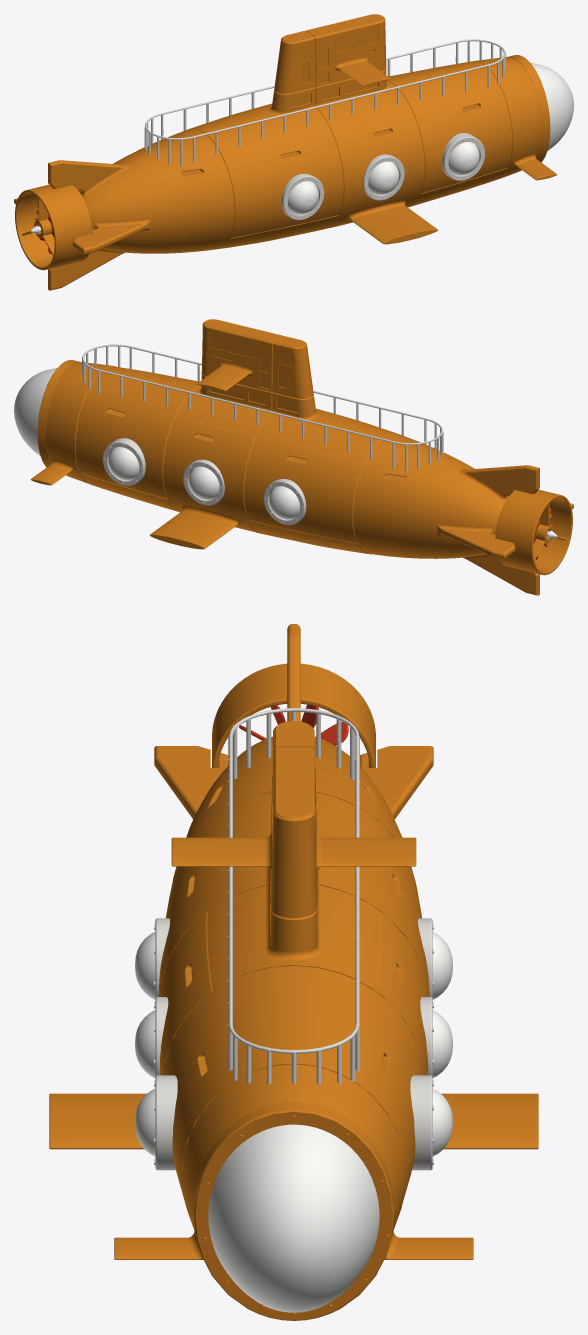
The model's file is sub_color v1.fbx.
3 views of the same model, one above another, from view 1: azimuth 30°, elevation 25°; view 2: azimuth 150°, elevation 25°; view 3: azimuth 270°, elevation 25° (orthographic). The views are drawn at different scales.
Visible parts, largest first — view 1: Body20, Body7, Body17, Body8, Body3, Body1; view 2: Body20, Body7, Body17, Body8, Body3, Body1; view 3: Body20, Body1, Body17, Body3, Body7, Body8, Body22.
Boxes of the visible parts, <box> form: Body20: <box>14,14,557,290</box>; Body7: <box>15,184,92,270</box>; Body17: <box>144,39,505,172</box>; Body8: <box>288,142,479,214</box>; Body3: <box>281,133,485,220</box>; Body1: <box>531,63,573,150</box>; Body20: <box>30,319,573,595</box>; Body7: <box>495,489,572,575</box>; Body17: <box>82,344,443,477</box>; Body8: <box>108,447,299,519</box>; Body3: <box>102,438,306,525</box>; Body1: <box>14,368,56,455</box>; Body20: <box>49,624,538,1320</box>; Body1: <box>208,1124,379,1312</box>; Body17: <box>228,708,359,1084</box>; Body3: <box>154,918,433,1170</box>; Body7: <box>212,663,375,767</box>; Body8: <box>135,932,452,1156</box>; Body22: <box>239,704,355,760</box>.
Bounding box in the file's own units: 183 × 62.56 × 72.
